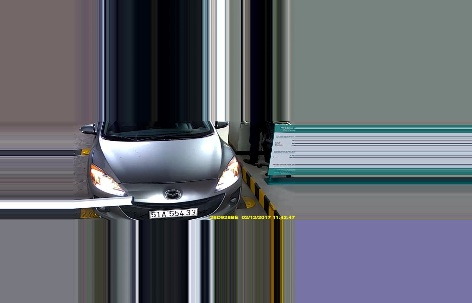plate: (148, 206, 199, 218)
